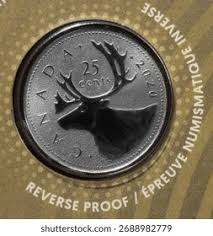coin: (14, 21, 170, 177)
